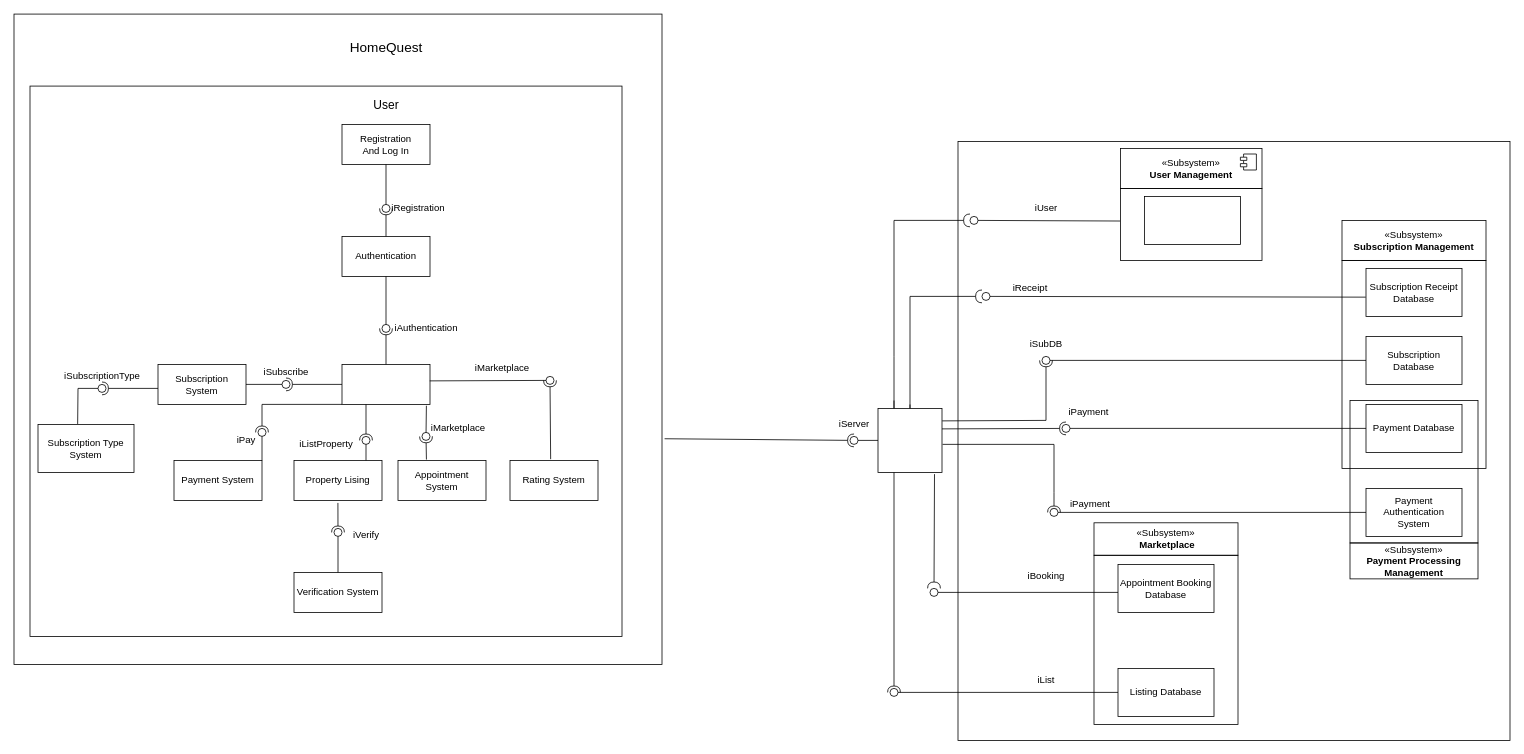
This 1524x754 diagram has some shape labels left out. The centre of each missing label's shape, as x and y in pixels:
"Marketplace System" belongs at point 385,384.
"Server" belongs at point 909,440.
"User Database" belongs at point 1192,220.
